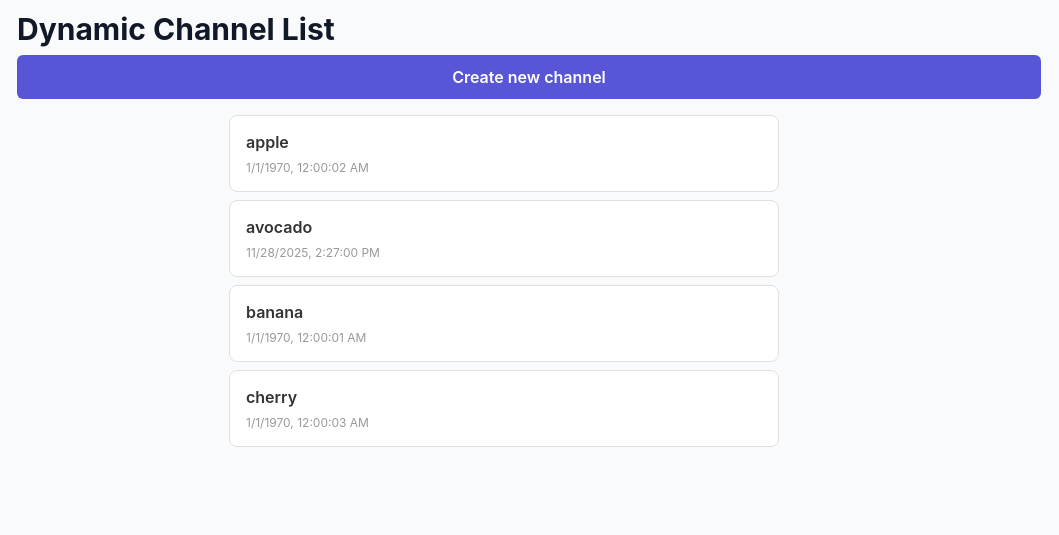
it: Home Page Integration › should handle error flow from user perspective
# 2. 버튼 클릭
Click the button "Create new channel" at x=529, y=77, box [17,55,1041,99]
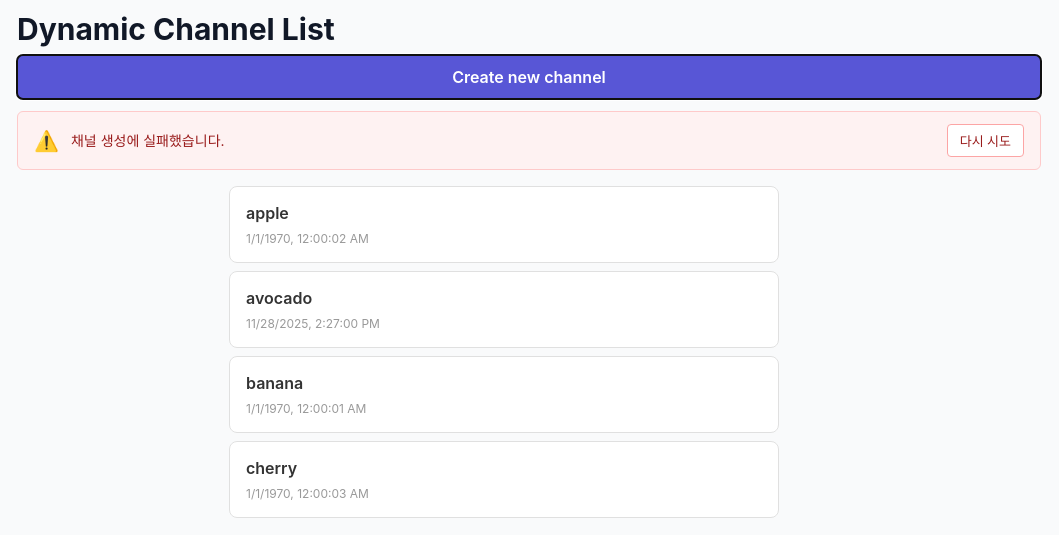
Check: the message "⚠️ 채널 생성에 실패했습니다. 다시 시도" is shown, box [17,111,1041,170]
Check: the text "채널 생성에 실패했습니다." is shown, box [71,132,225,149]
Check: the button "다시 시도" is shown, box [947,124,1024,157]
